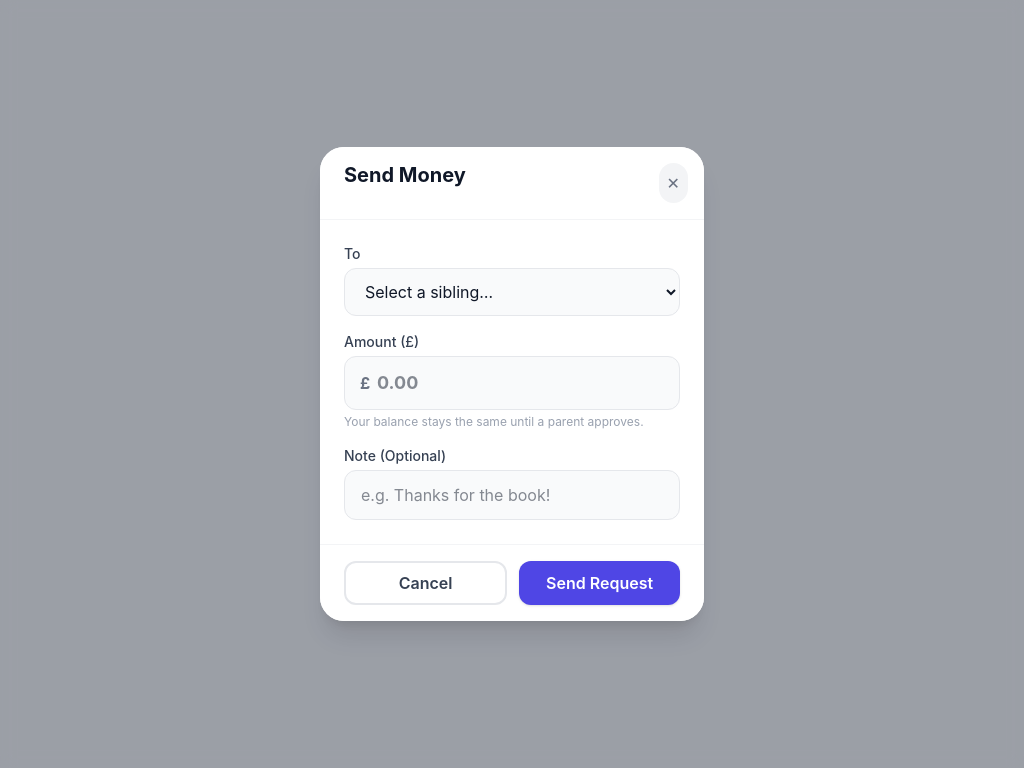
SendMoneyModal — submission › blocks a zero amount
This screenshot has width=1024, height=768.
Select "Child Two" in the dropdown labelled "To": (512, 292) [344,268,680,316]
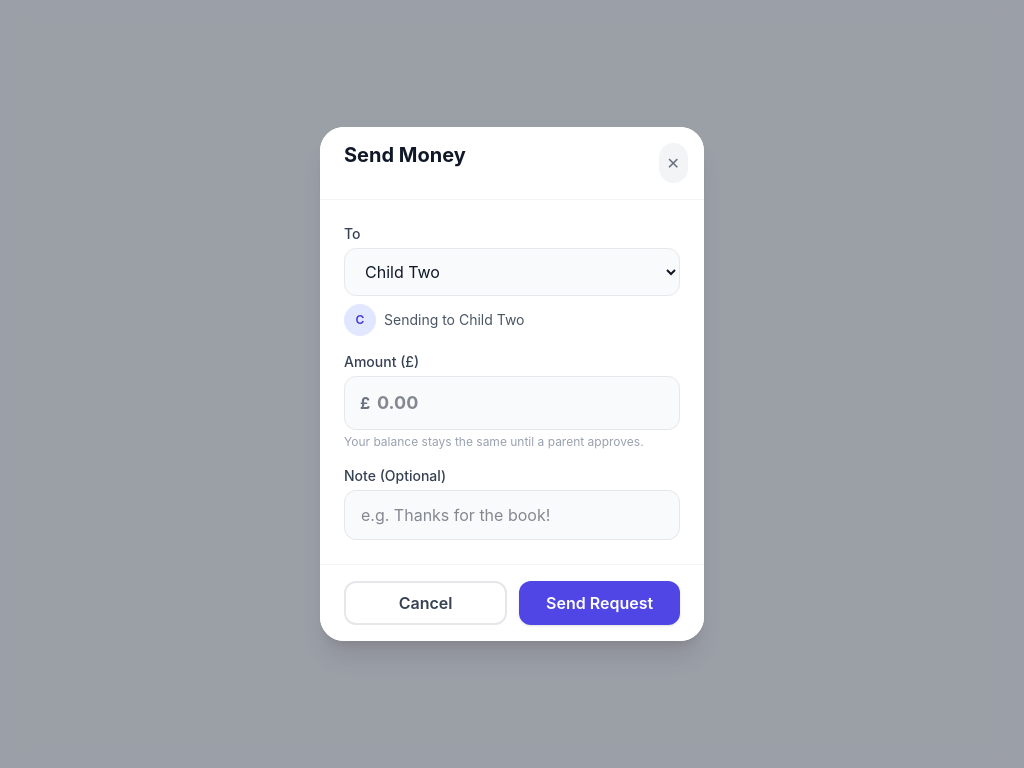
In the number field labelled "Amount (£)": (512, 403) [344,376,680,430], type "0"
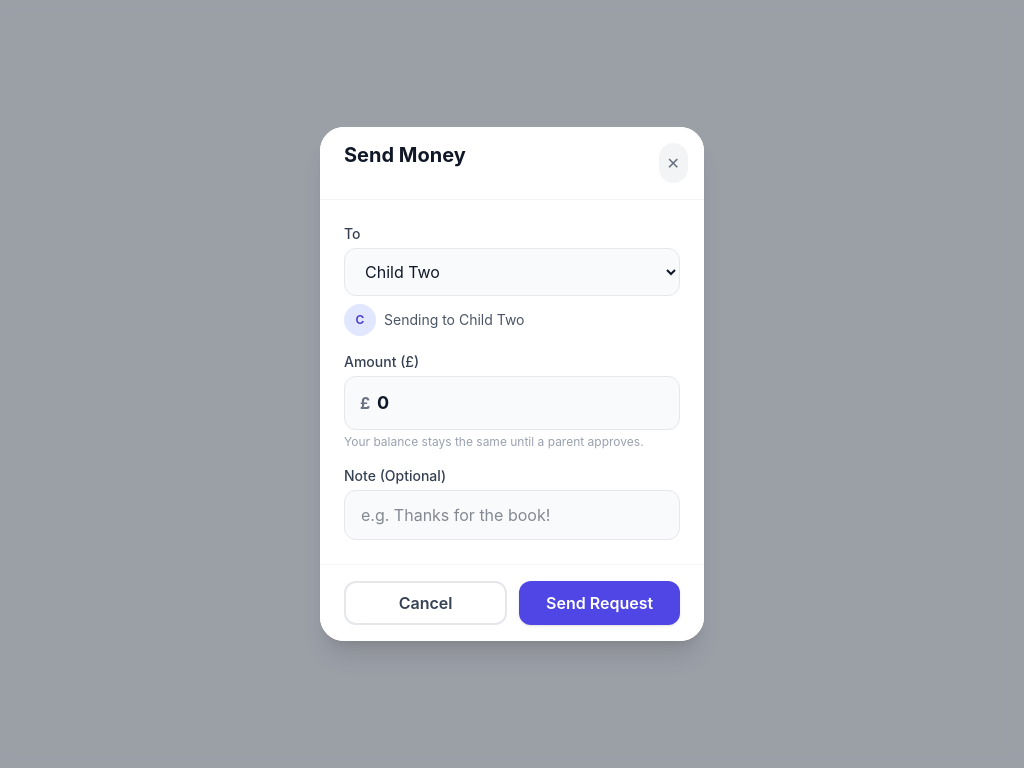
Submit the form with test id "send-money-form", box [320,200,704,641]
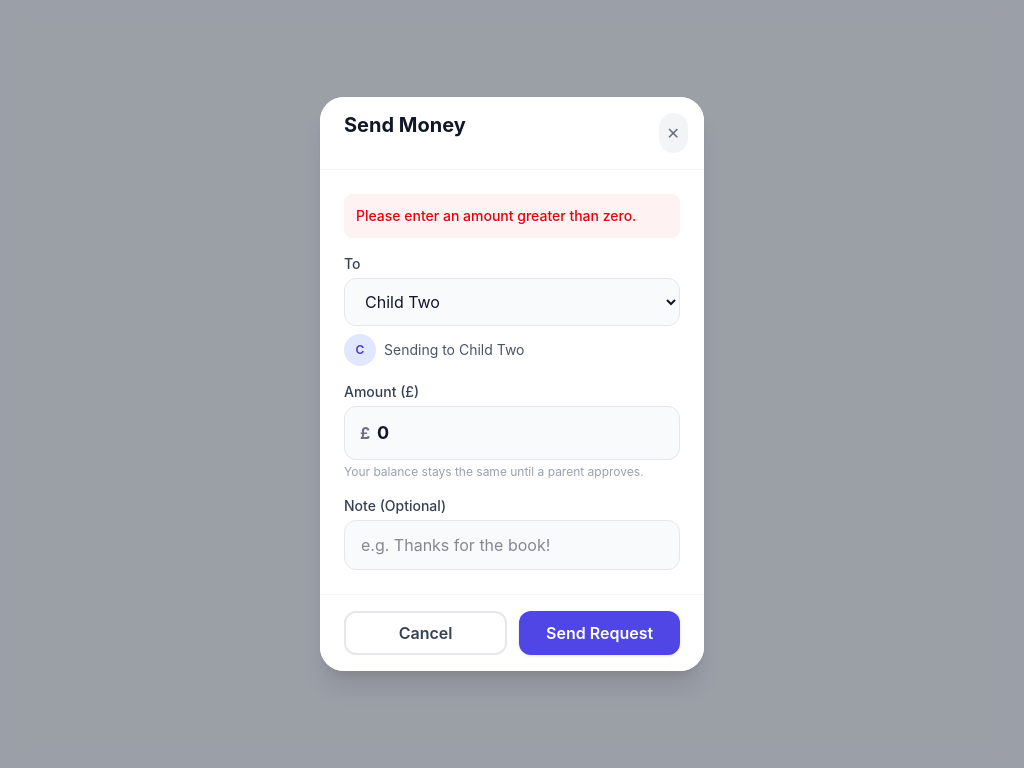
expect the text "Please enter an amount greater than zero." is shown: met, box [344,194,680,238]
